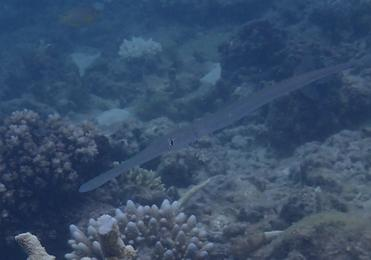Fistularia commersonii: (79, 20, 371, 232)
